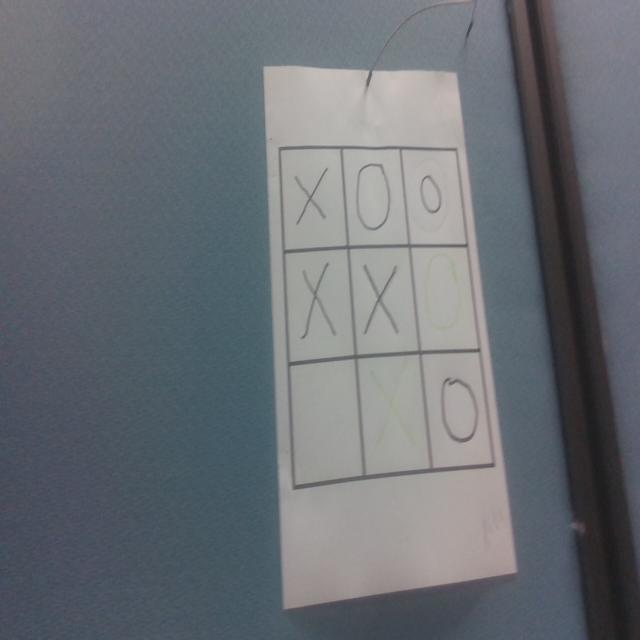null: (290, 358, 362, 487)
o: (423, 252, 463, 333), (356, 161, 392, 232), (441, 375, 478, 442), (420, 174, 444, 215)
table: (277, 140, 499, 493)
x: (372, 358, 415, 457), (364, 265, 398, 334), (303, 266, 335, 339), (296, 169, 328, 226)
